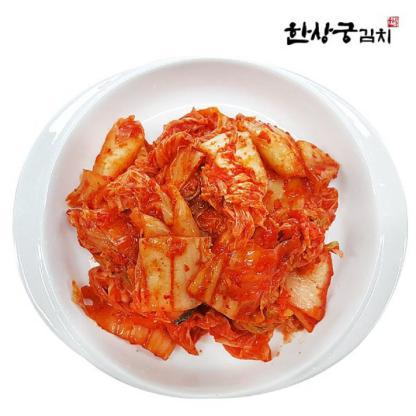kimchi: (81, 116, 341, 366)
